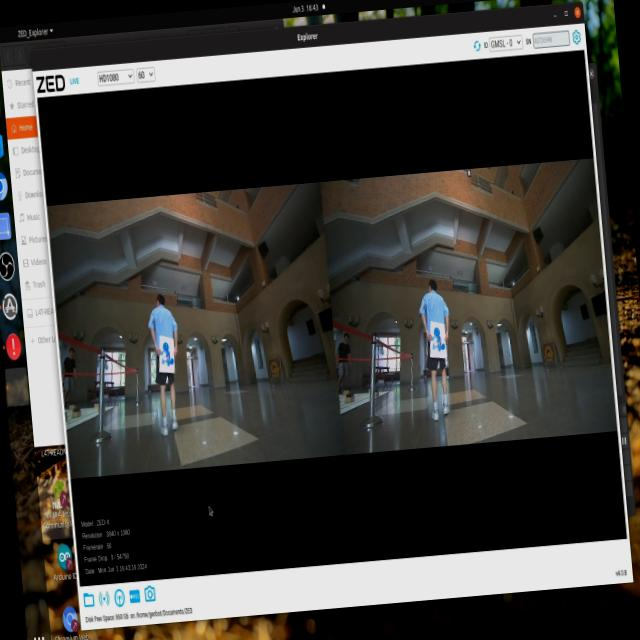blue: (430, 321, 447, 363), (162, 340, 173, 372)
